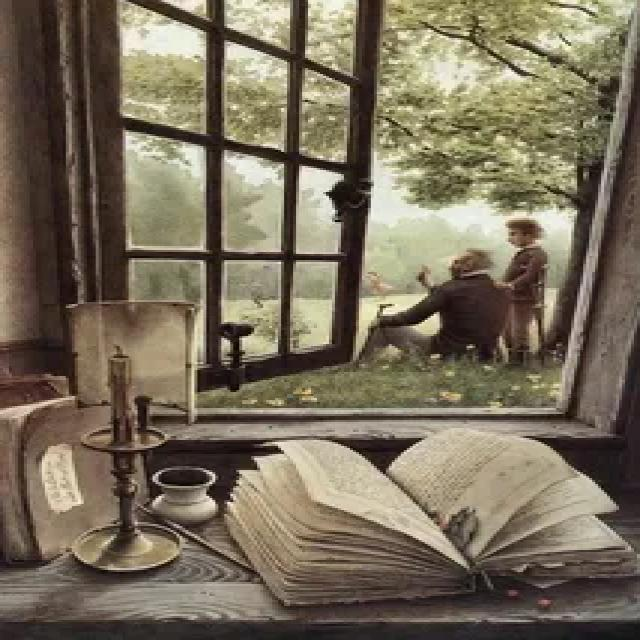book: (209, 412, 639, 640)
